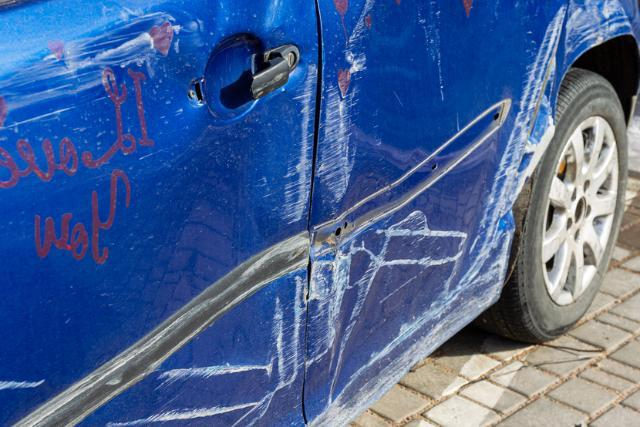Door: (0, 8, 299, 427), (314, 12, 518, 355)
